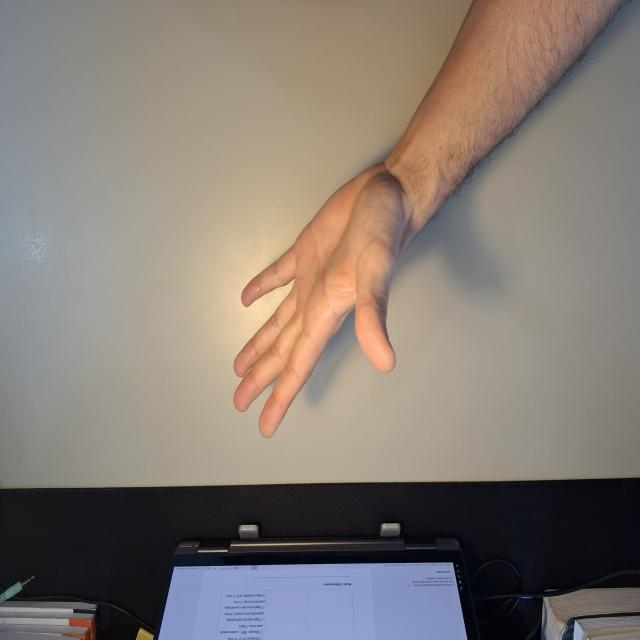glove_off: (232, 151, 409, 441)
